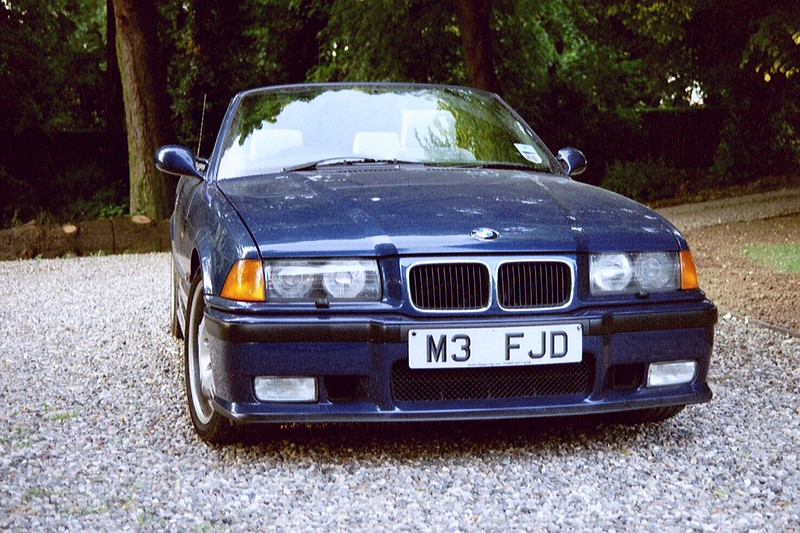number_plate: (398, 322, 600, 374)
